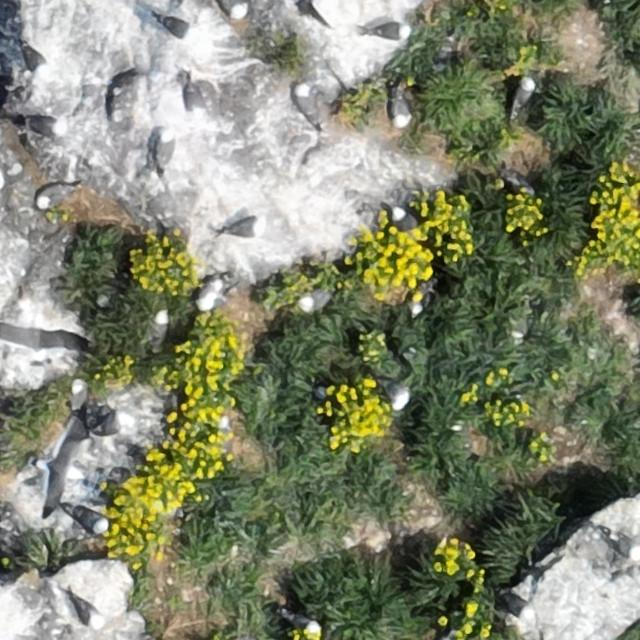F: (10, 312, 88, 362), (34, 438, 84, 510)
umineko: (177, 77, 209, 120), (92, 408, 136, 436), (499, 594, 535, 621), (73, 598, 103, 627), (197, 281, 224, 310), (75, 509, 109, 532), (512, 78, 534, 111), (39, 184, 70, 207), (222, 220, 260, 238), (160, 17, 191, 39), (392, 94, 412, 127), (22, 45, 46, 72), (295, 87, 314, 120), (283, 612, 317, 630), (24, 117, 60, 134), (299, 290, 329, 310), (392, 209, 418, 231), (371, 23, 406, 39), (157, 131, 173, 166), (611, 535, 637, 556), (385, 385, 408, 408), (410, 285, 428, 314), (152, 310, 168, 341), (70, 381, 85, 409), (221, 1, 243, 18)
